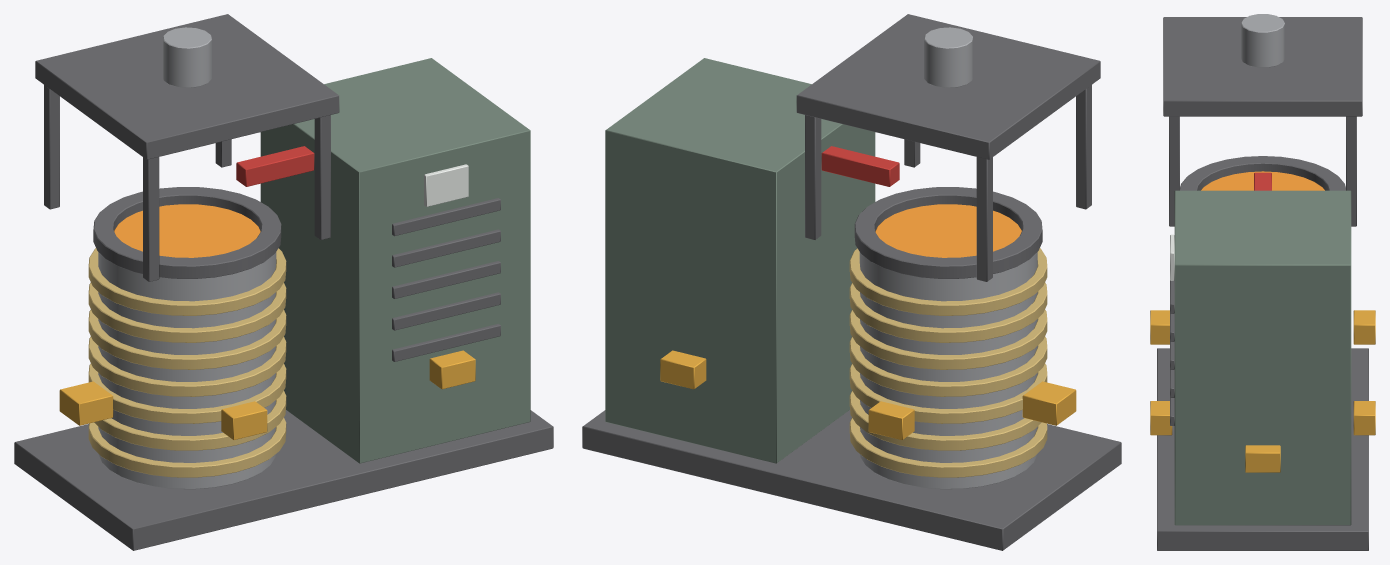
The model's file is feInductionFurnace.fbx.
3 views of the same model, side by side, from view 1: azimuth 30°, elevation 25°; view 2: azimuth 150°, elevation 25°; view 3: azimuth 270°, elevation 25° (orthographic). The views are drawn at different scales.
Visible parts, largest first — view 1: feInductionFurnace_Base; view 2: feInductionFurnace_Base; view 3: feInductionFurnace_Base.
Boxes of the visible parts, <box> form: feInductionFurnace_Base: <box>14,14,553,550</box>; feInductionFurnace_Base: <box>582,14,1121,550</box>; feInductionFurnace_Base: <box>1150,14,1375,550</box>.
Bounding box in the file's own units: 2 × 1.97 × 1.02.
